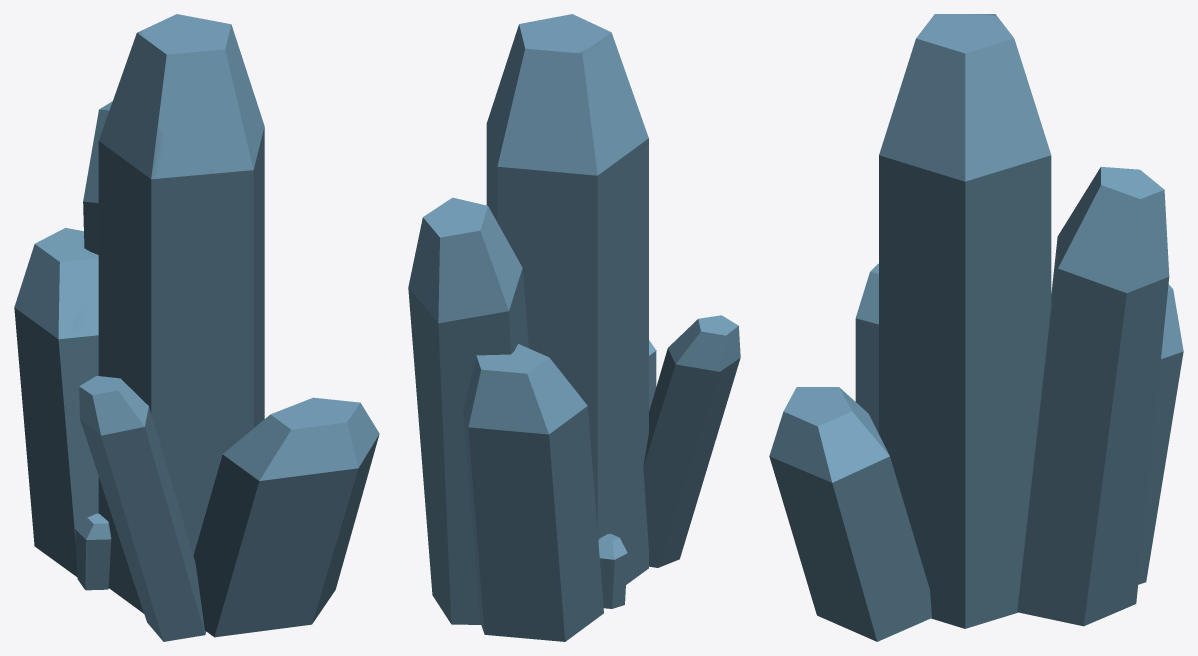
File: iceBlocks.fbx
3 renders of one model, left to right at view 1: azimuth 30°, elevation 25°; view 2: azimuth 150°, elevation 25°; view 3: azimuth 270°, elevation 25°, orthographic. The views are drawn at different scales.
Visible parts, largest first — view 1: IceBlock; view 2: IceBlock; view 3: IceBlock.
Part boxes in pixels (box(x1,y1,x2,y2)): IceBlock: box(14, 14, 379, 641); IceBlock: box(408, 14, 740, 641); IceBlock: box(769, 14, 1183, 641).
Size of the model in its own units: 172 by 343 by 229.
